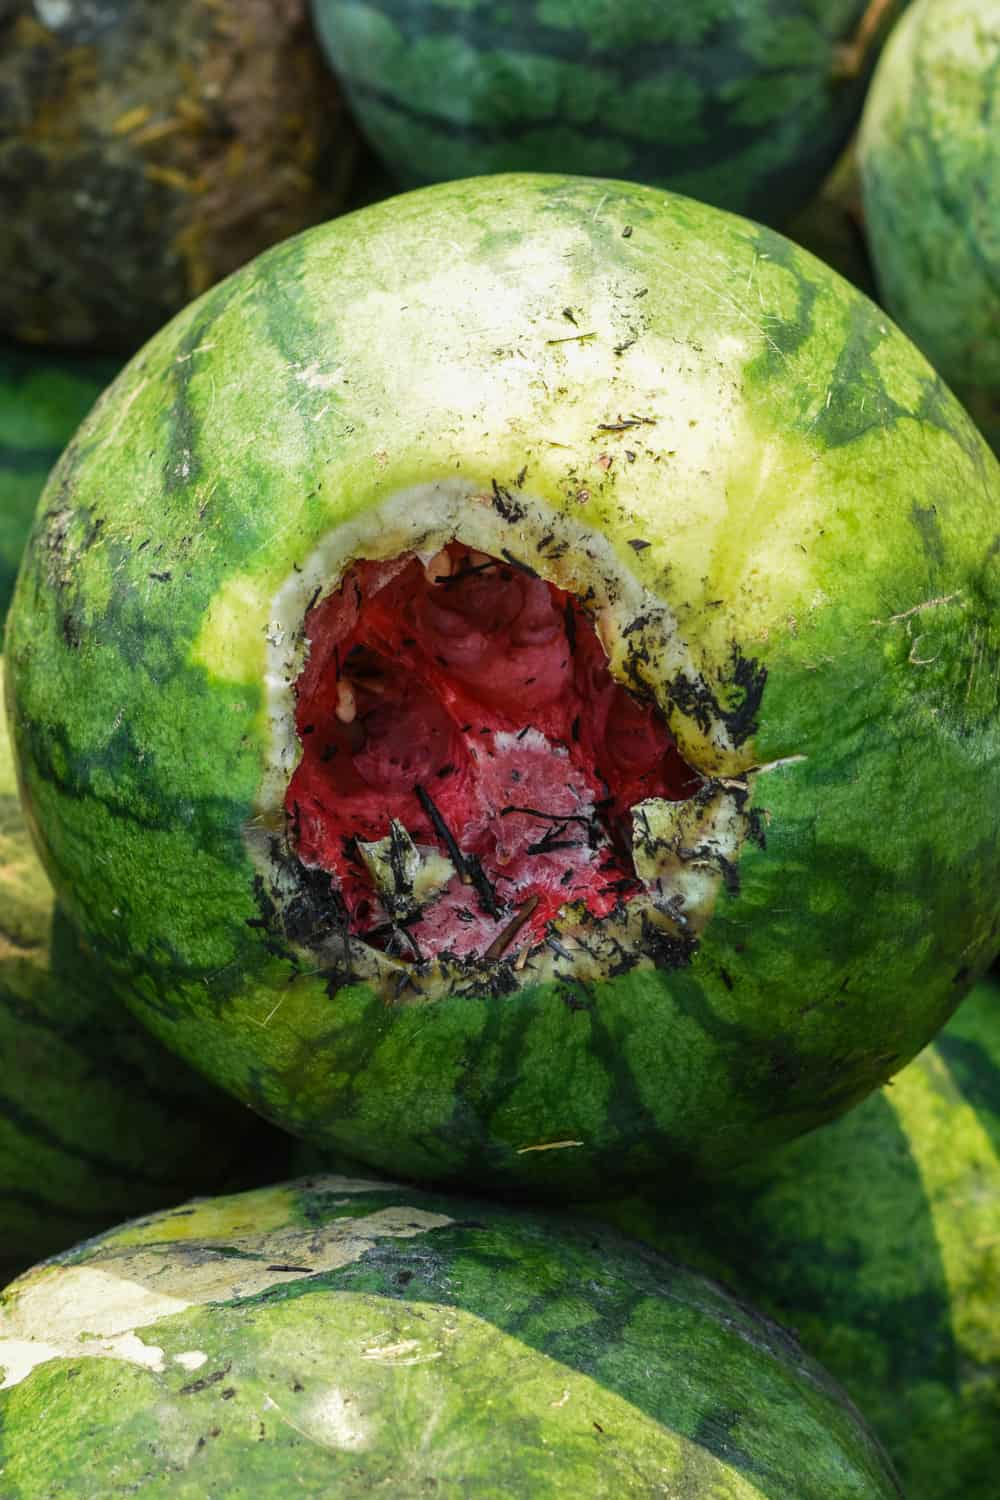rotten: (221, 475, 769, 996)
watermelon: (15, 171, 999, 1184)
